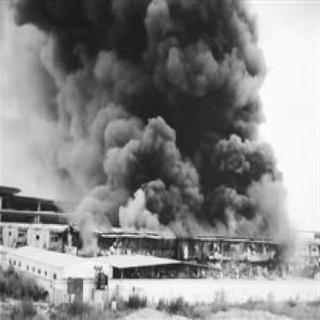Smoke: (35, 0, 261, 203)
